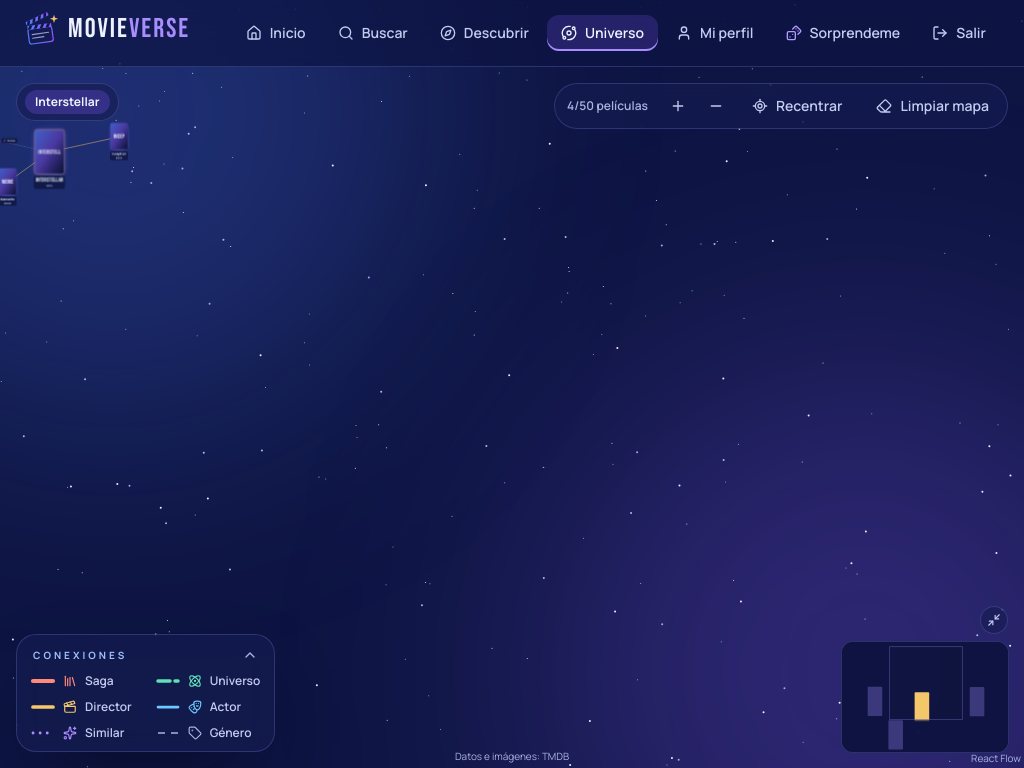
Test: UniversePage › expands from a node: reuses existing movies, adds new ones and updates the path
The width and height of the screenshot is (1024, 768).
Click the button with aria-label "Inception (2010)". click: (119, 136)
box: x1=110 y1=122 x2=128 y2=149
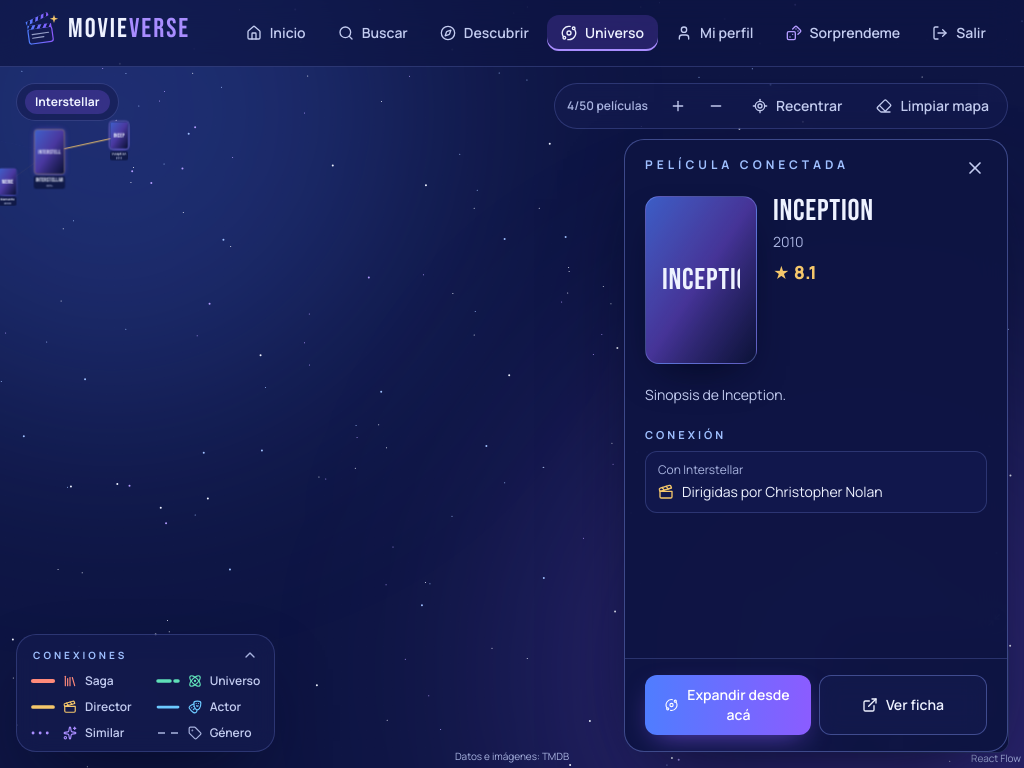
Click the button "Expandir desde acá". click: (728, 705)
box: x1=645 y1=675 x2=811 y2=735
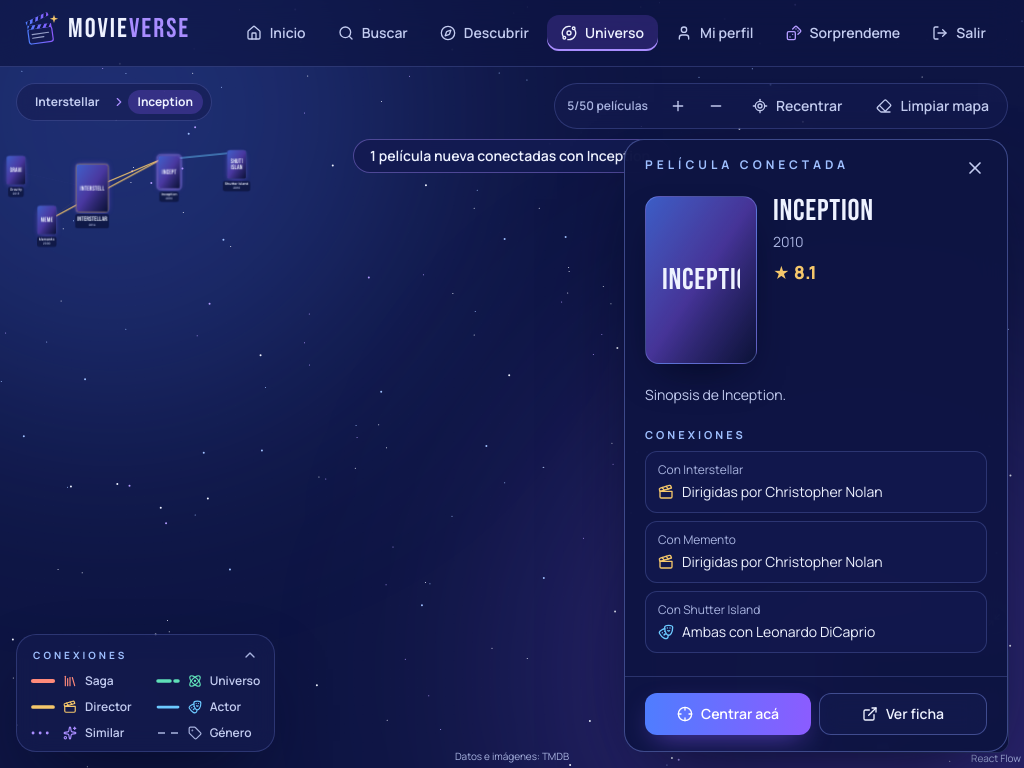
Result: the button with aria-label "Shutter Island (2010)" is shown at x1=227 y1=150 x2=246 y2=179
Result: the number of buttons named "Memento (2000)" is 1
Result: the number of buttons named "Interstellar (2014)" is 1 at x1=76 y1=164 x2=108 y2=212
# Memento is now connected to both: the panel lists both reasons.
Click the button with aria-label "Memento (2000)". click: (47, 220)
box: x1=37 y1=206 x2=56 y2=235
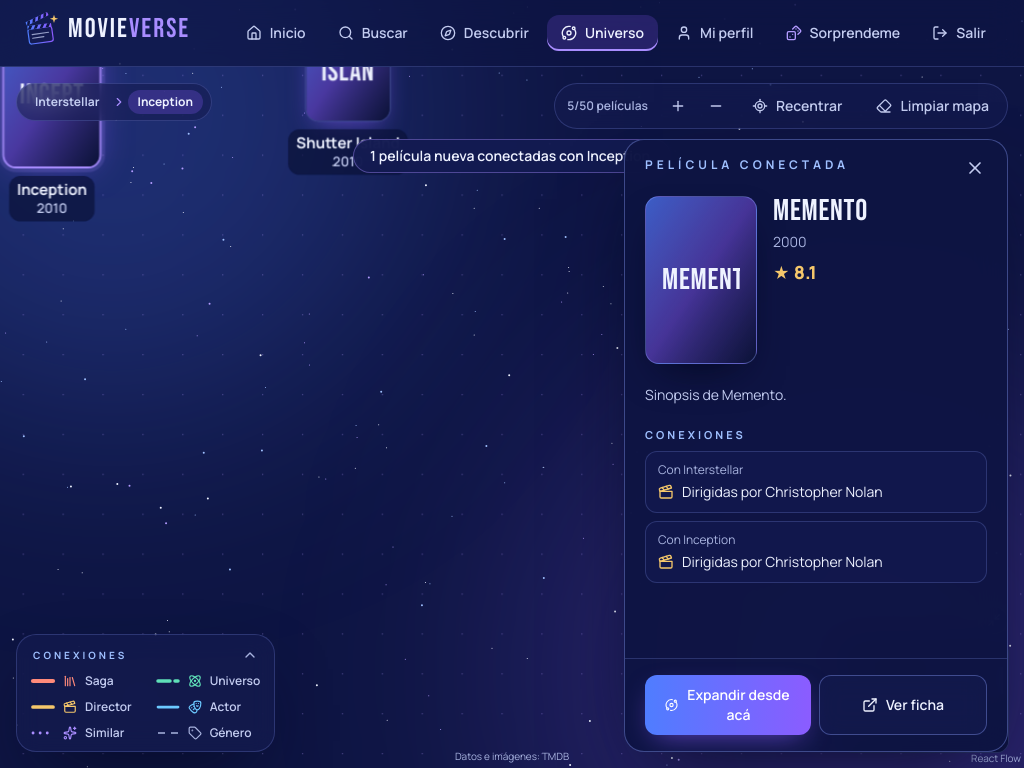
Result: the text "Con Interstellar" is shown at x1=658 y1=461 x2=743 y2=478
Result: the text "Con Inception" is shown at x1=658 y1=531 x2=735 y2=548
